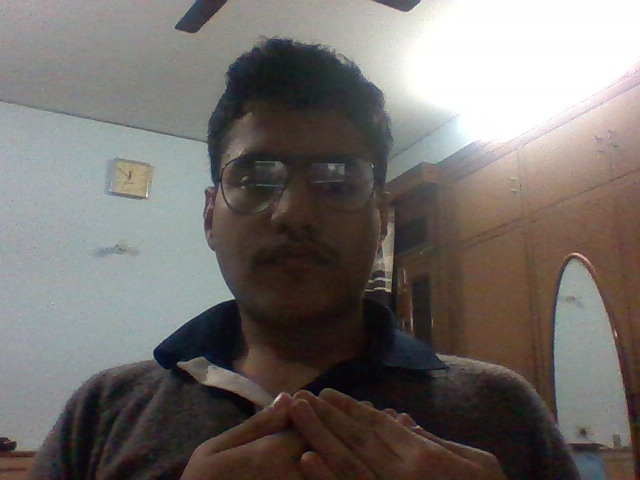Love: (175, 371, 508, 480)
